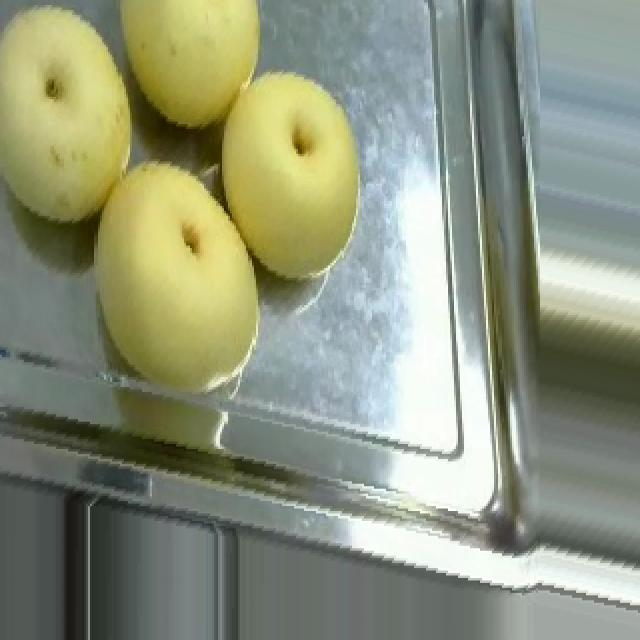Fruit: (56, 141, 284, 417), (202, 57, 376, 295), (0, 0, 164, 251), (84, 0, 274, 141)
